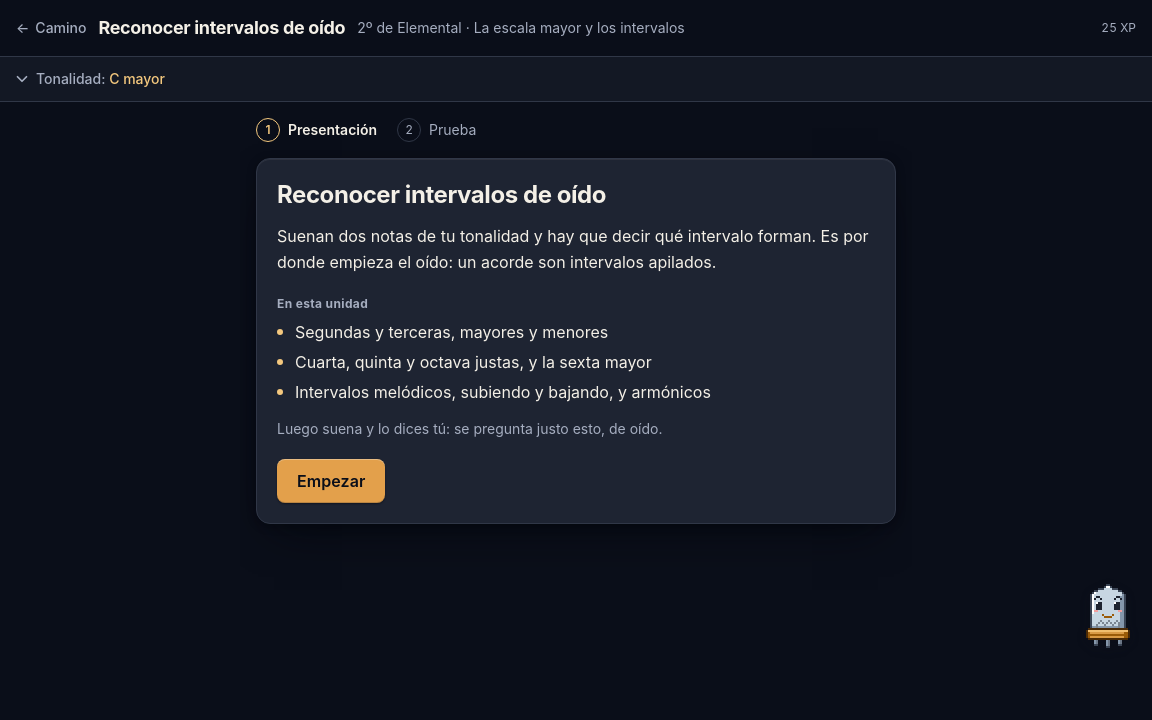
Test case: la presentación › el dictado de intervalos se presenta antes de sonar
Check: the text "Suenan dos notas de tu tonalidad y hay que decir qué intervalo forman. Es por donde empieza el oído: un acorde son inter" is shown, box [277,226,869,272]
Check: the button "Escuchar" is not shown
Click the button "Empezar" at (331, 481), box [277,459,385,503]
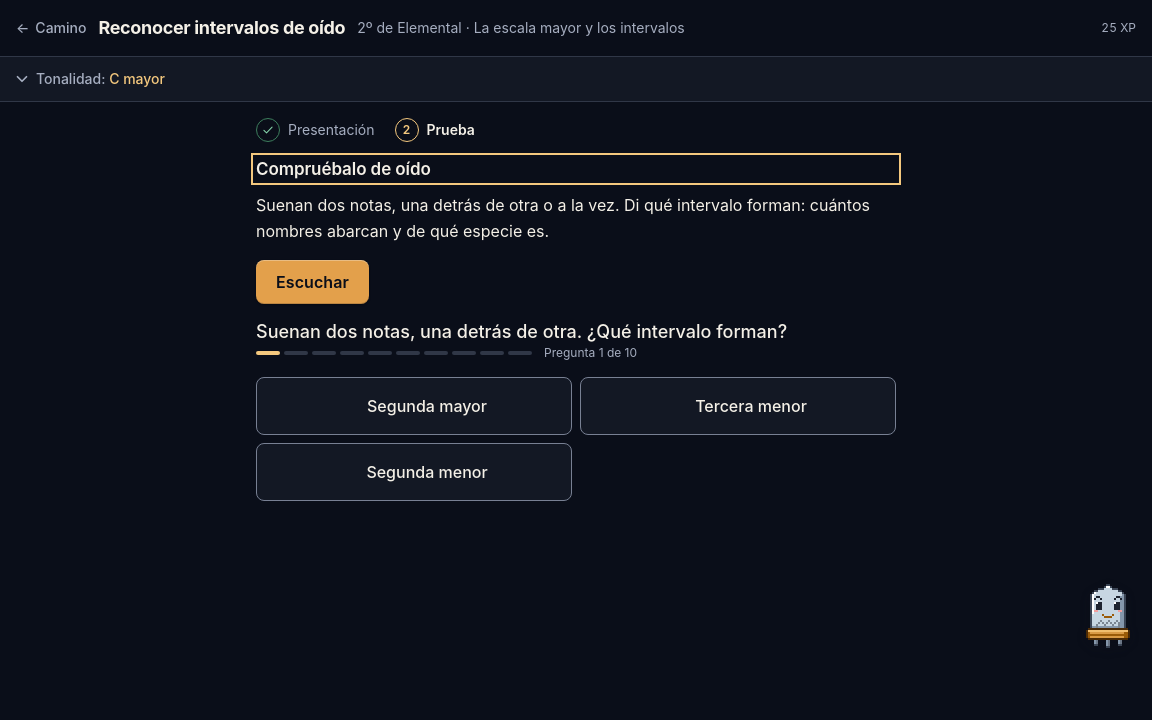
Check: the button "Escuchar" is shown, box [256,260,369,304]
